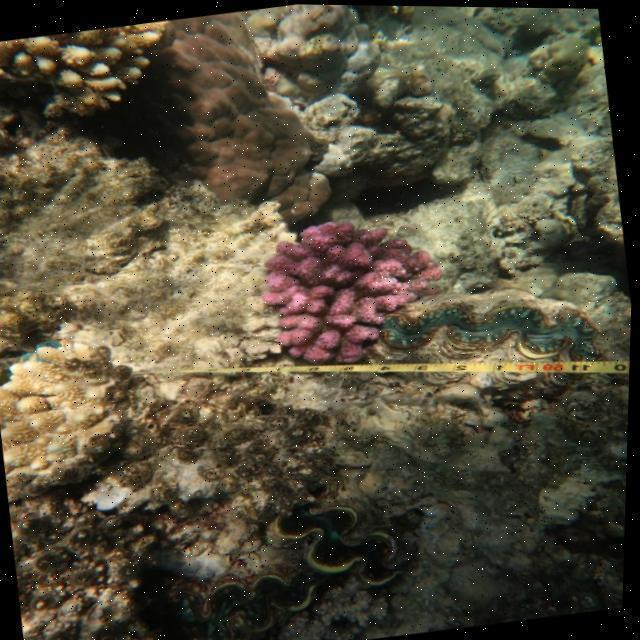Healthy Coral: (242, 199, 464, 388)
